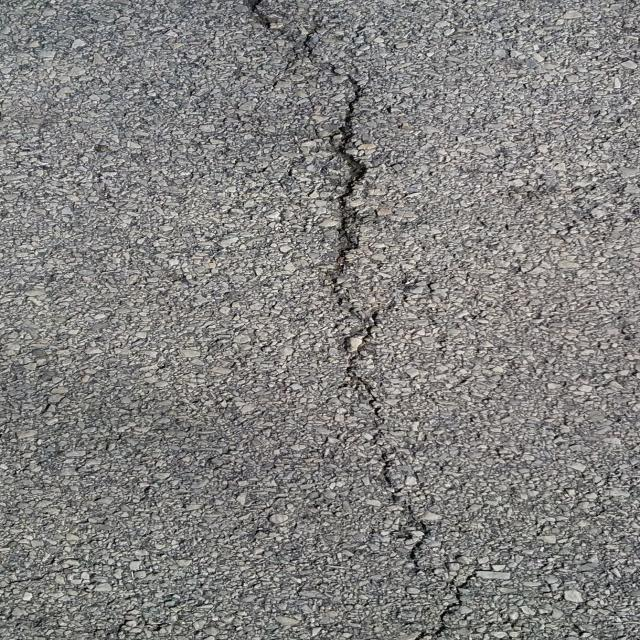Crack: (241, 0, 480, 640)
